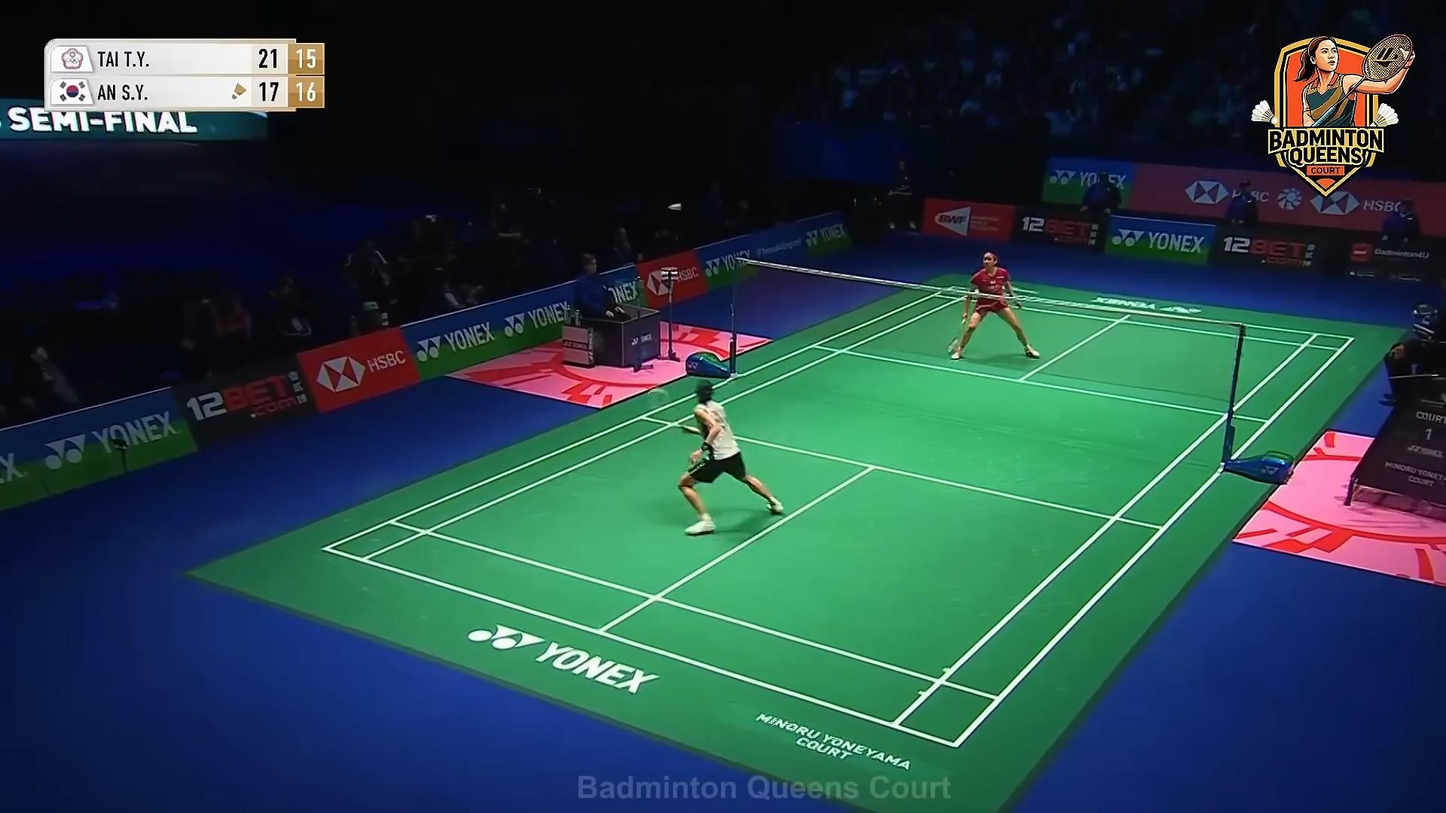player: (673, 378, 786, 536), (950, 251, 1039, 361)
